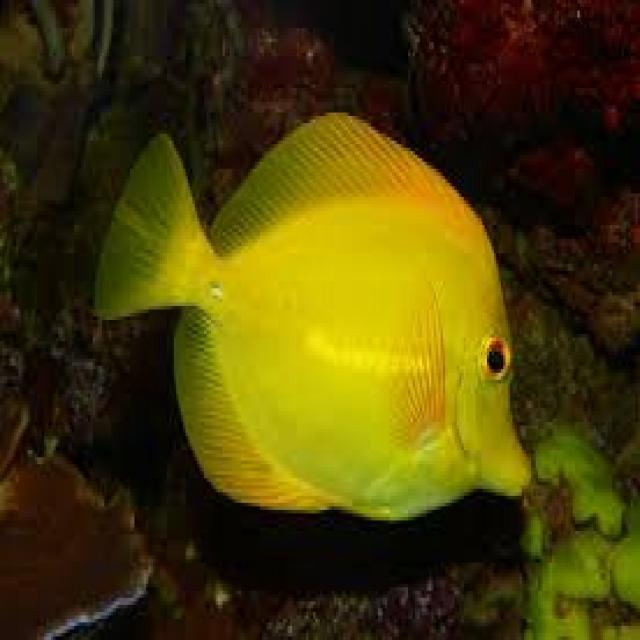TangFish: (48, 95, 535, 518)
